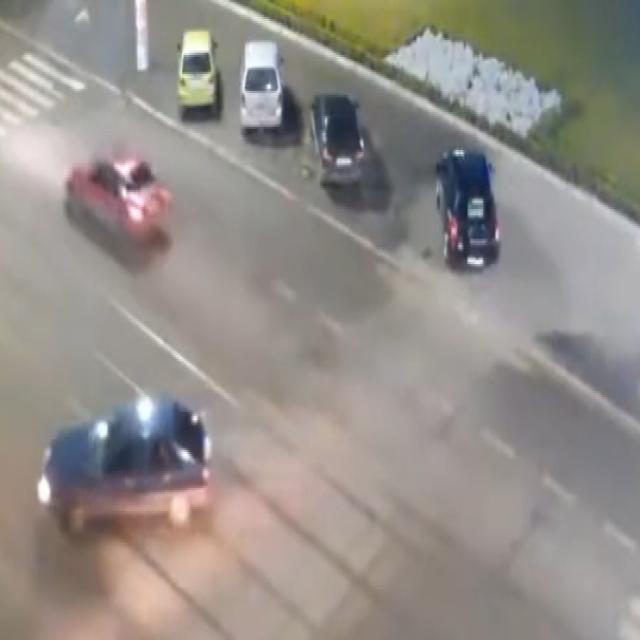non emergency car: (39, 395, 215, 541), (67, 142, 174, 250), (437, 150, 501, 272), (311, 90, 365, 189), (240, 43, 284, 139), (177, 29, 219, 118)
